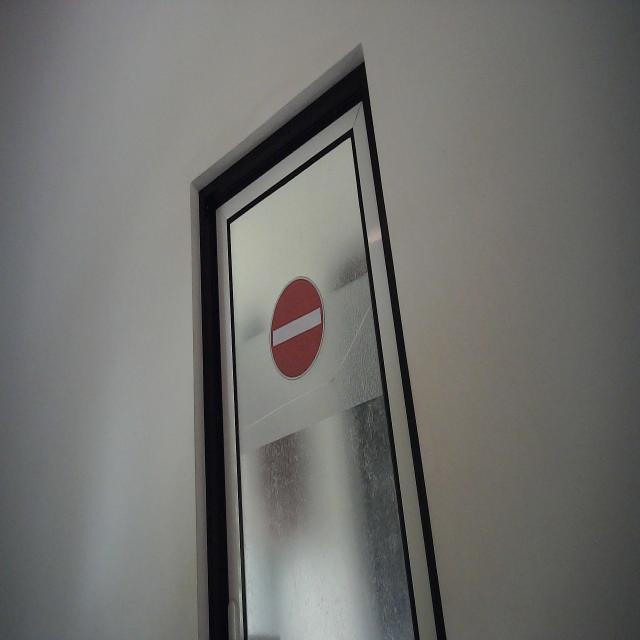no_entry: (268, 274, 326, 382)
